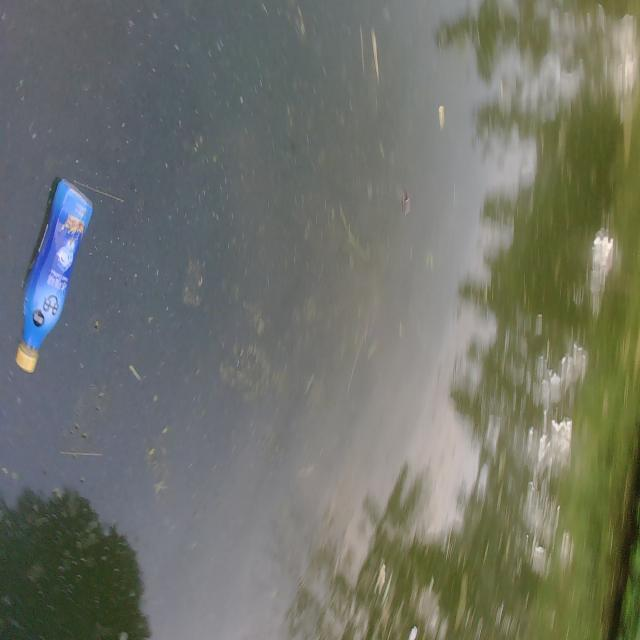bottle: (11, 166, 103, 392)
